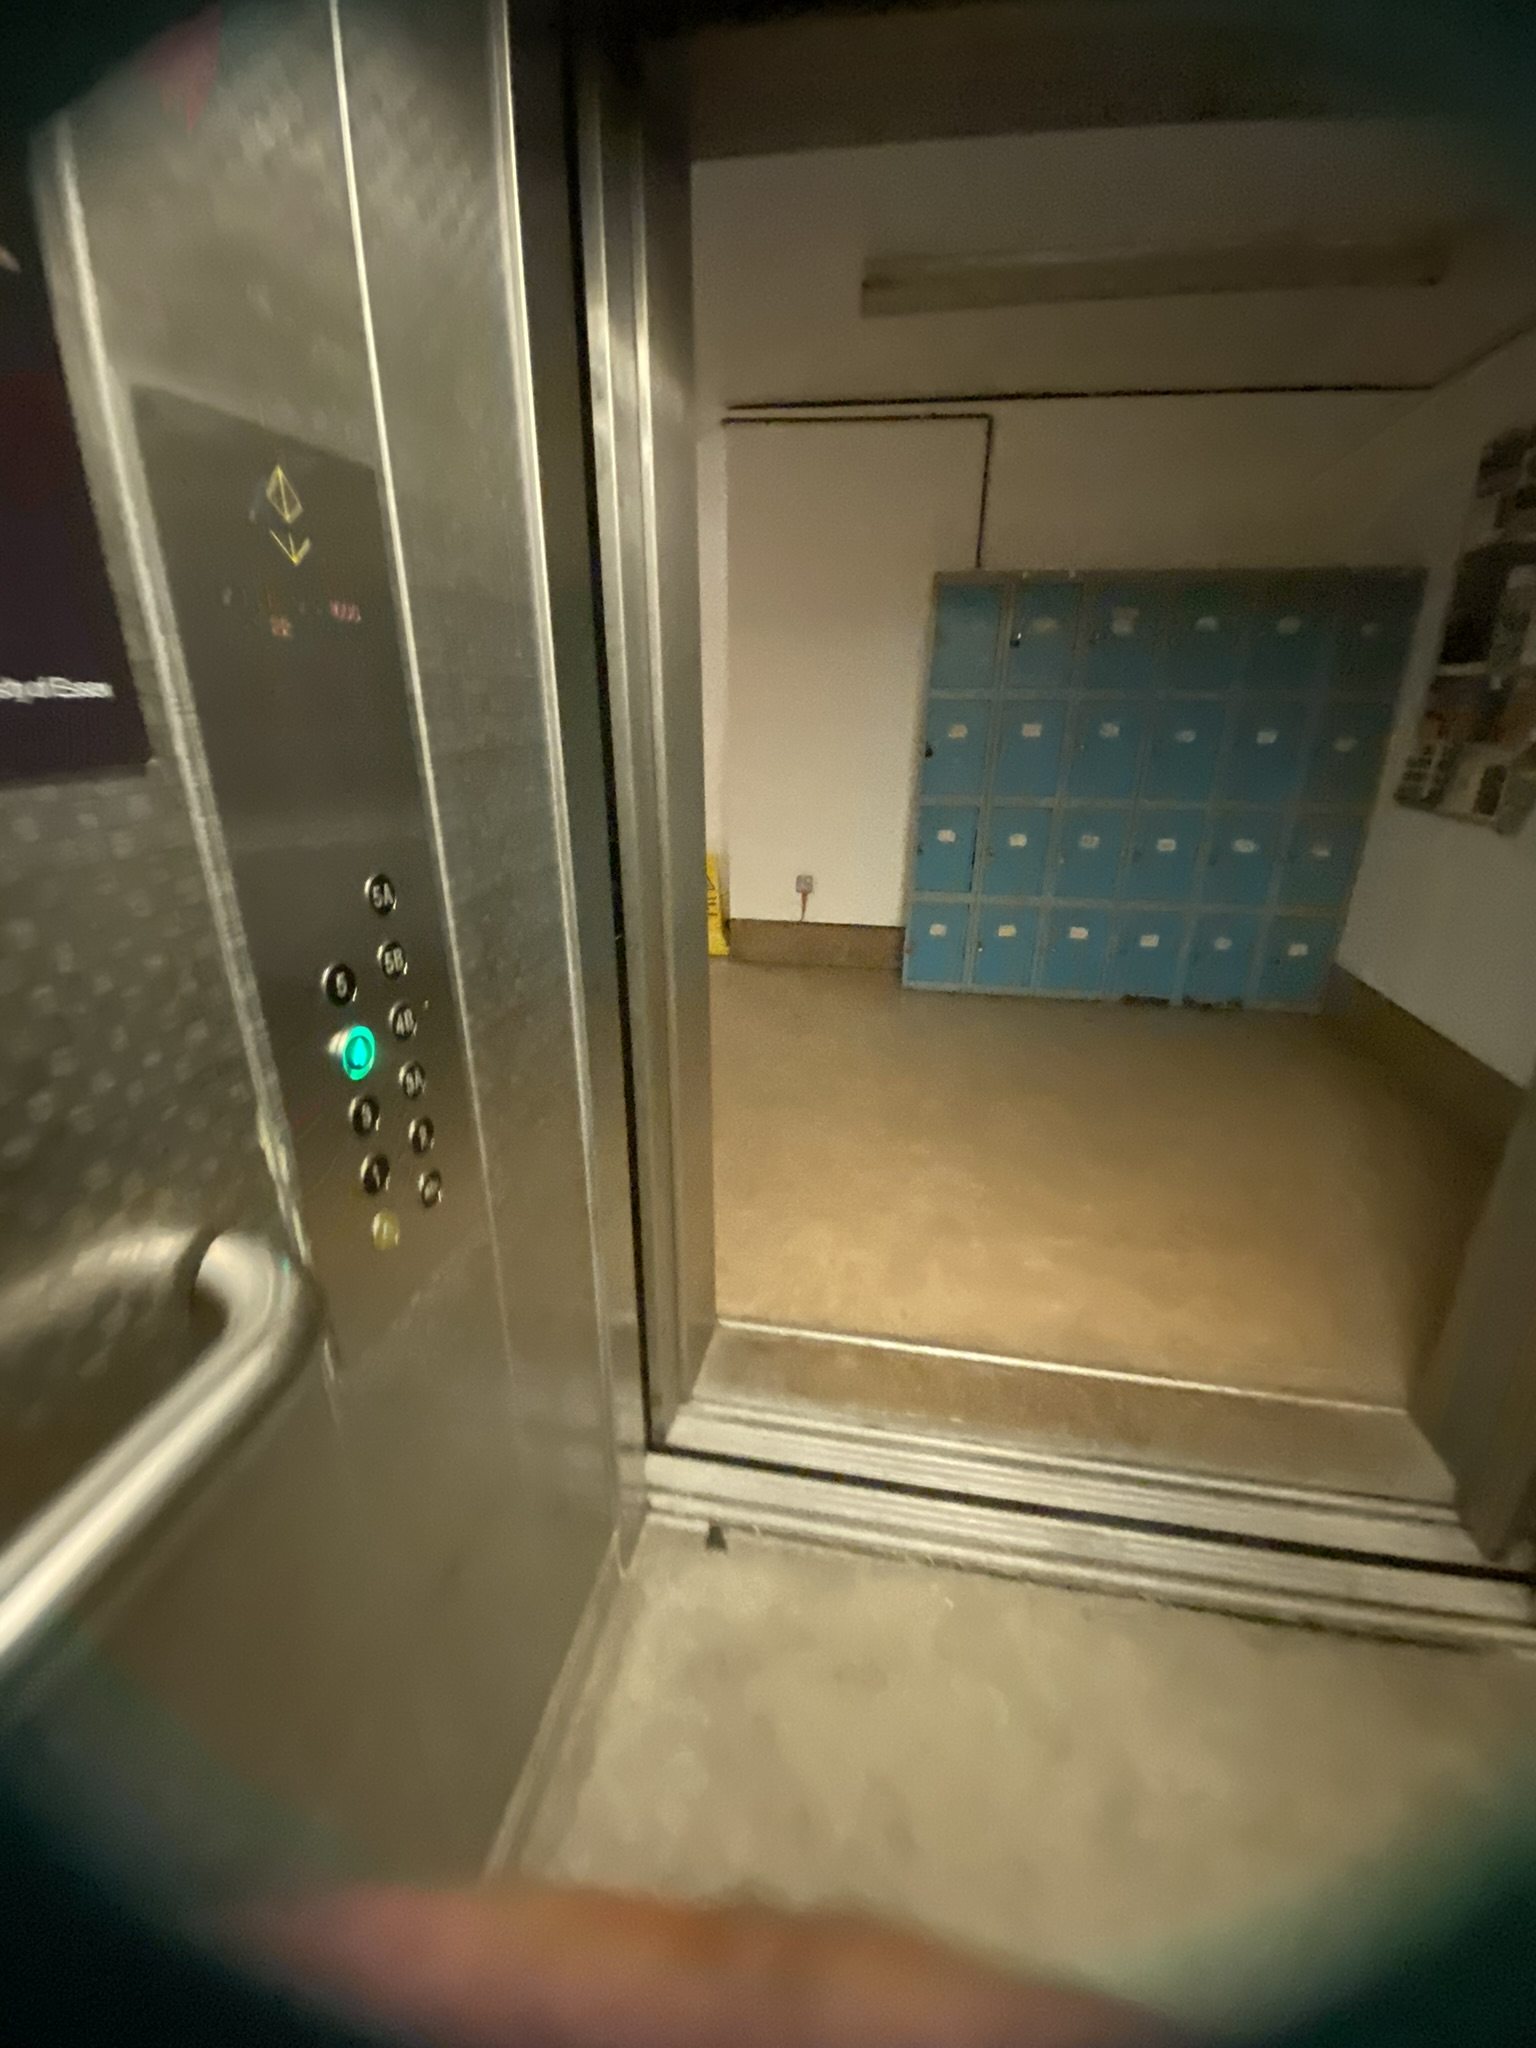buttons: (203, 829, 634, 1259)
